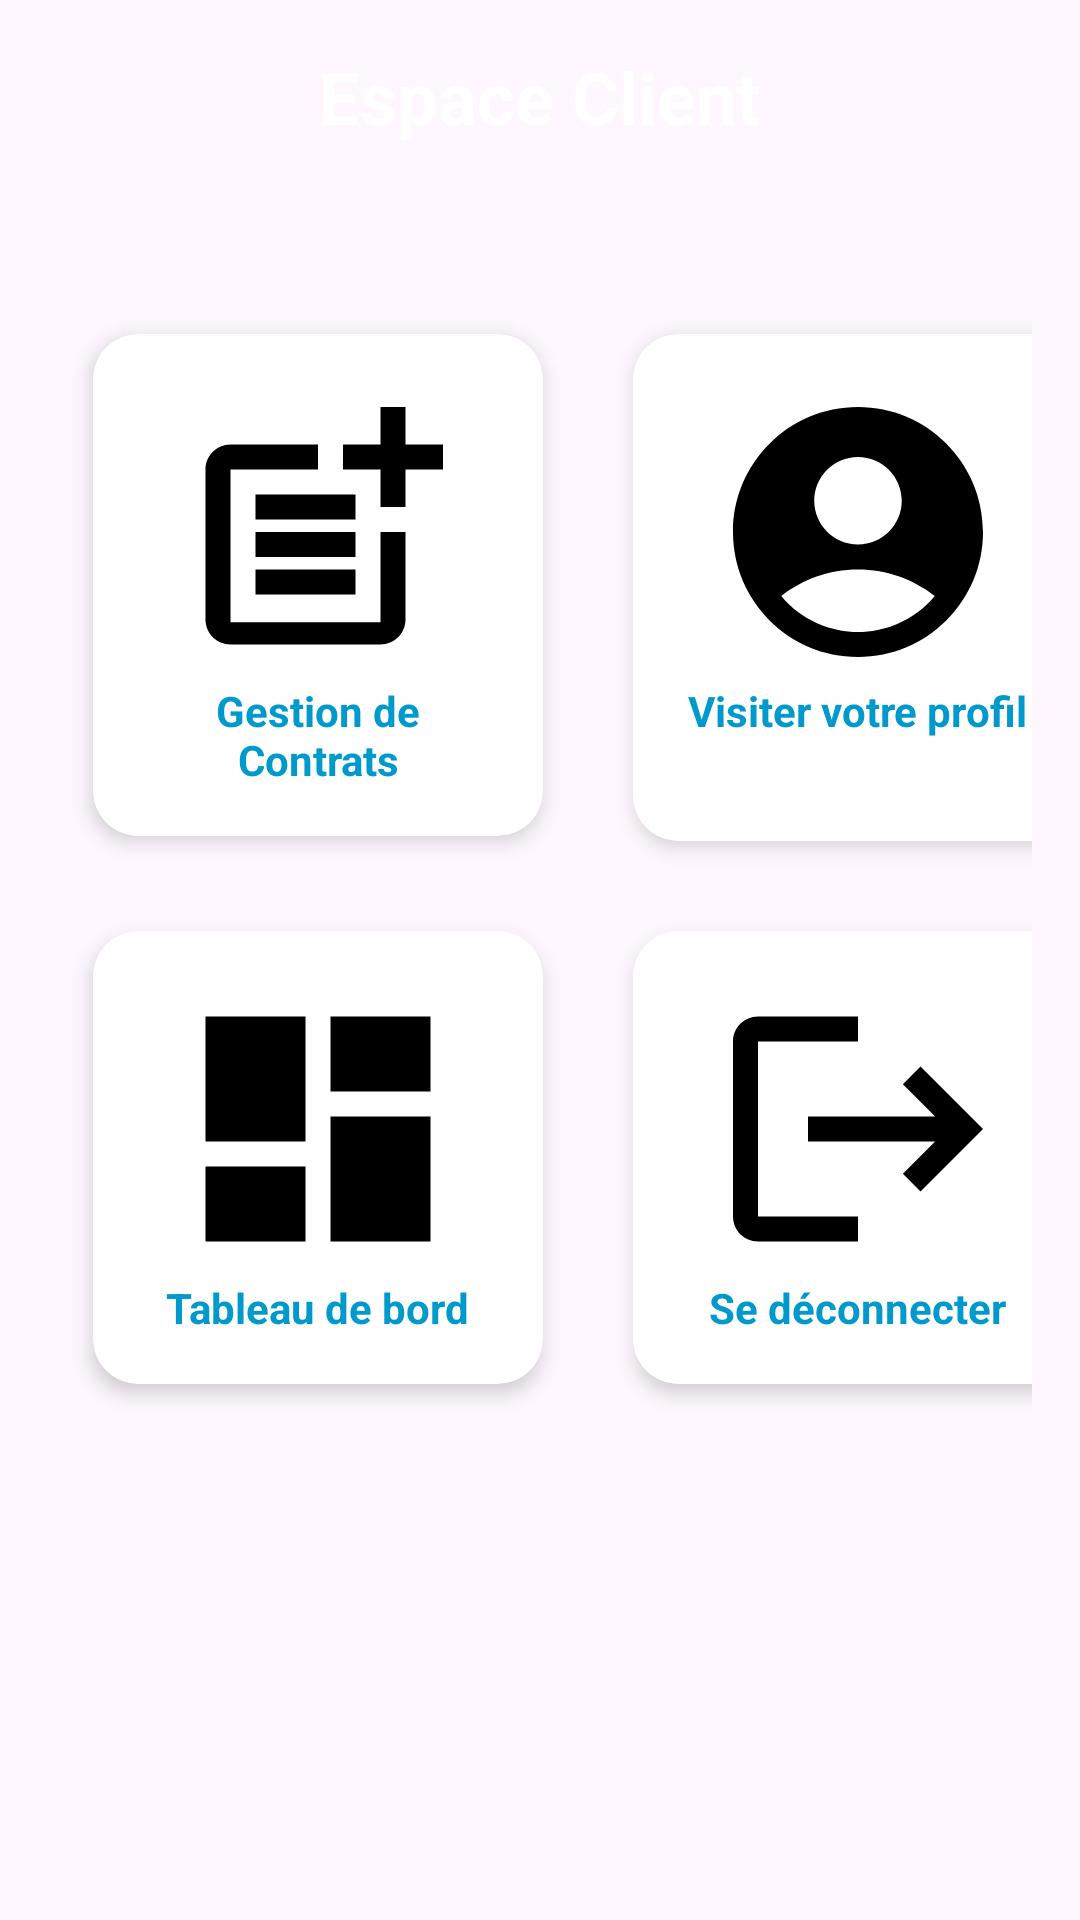

Icons on this 1080px x 1920px Android screen, each with the point to tap as (x,y):
account circle: (858,532)
